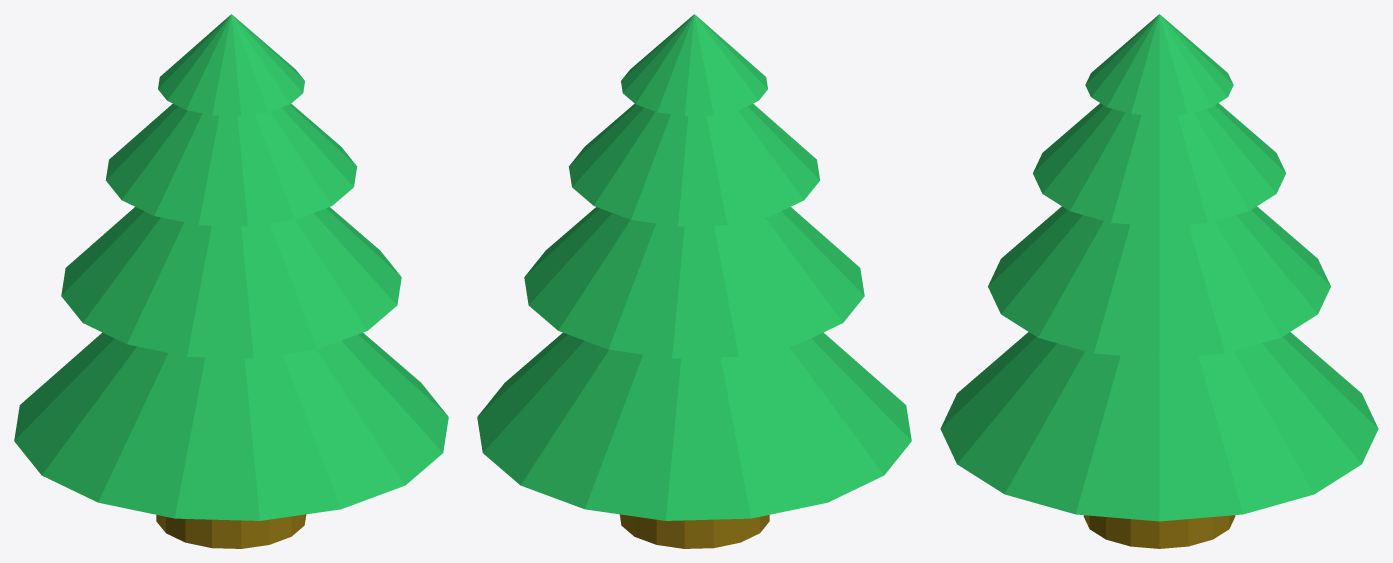
File: TreeFull.fbx
The picture shows the model from 3 angles, left to right: view 1: azimuth 30°, elevation 25°; view 2: azimuth 150°, elevation 25°; view 3: azimuth 270°, elevation 25°; orthographic projection.
Visible parts, largest first — view 1: Cone.001; view 2: Cone.001; view 3: Cone.001.
Boxes of the visible parts, left/top/right/bottom form: Cone.001: left=14, top=14, right=448, bottom=548; Cone.001: left=477, top=14, right=911, bottom=548; Cone.001: left=940, top=14, right=1378, bottom=548.
Bounding box in the file's own units: 395 × 500 × 395.
